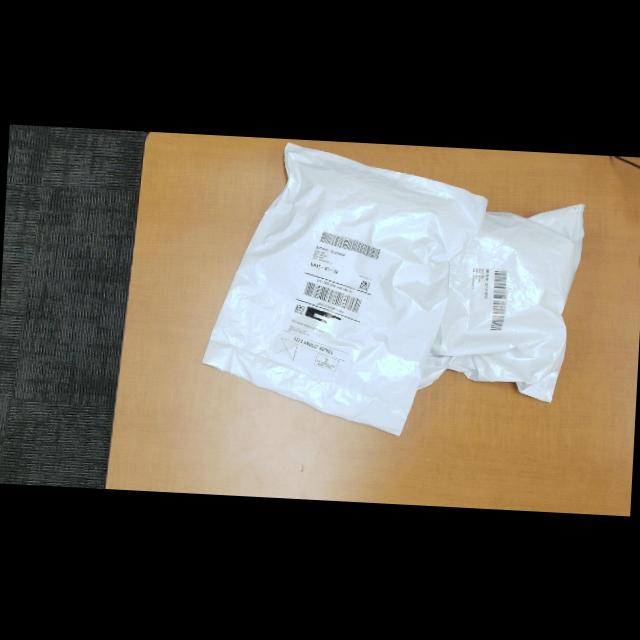mailer: (197, 138, 464, 438), (370, 191, 586, 403)
